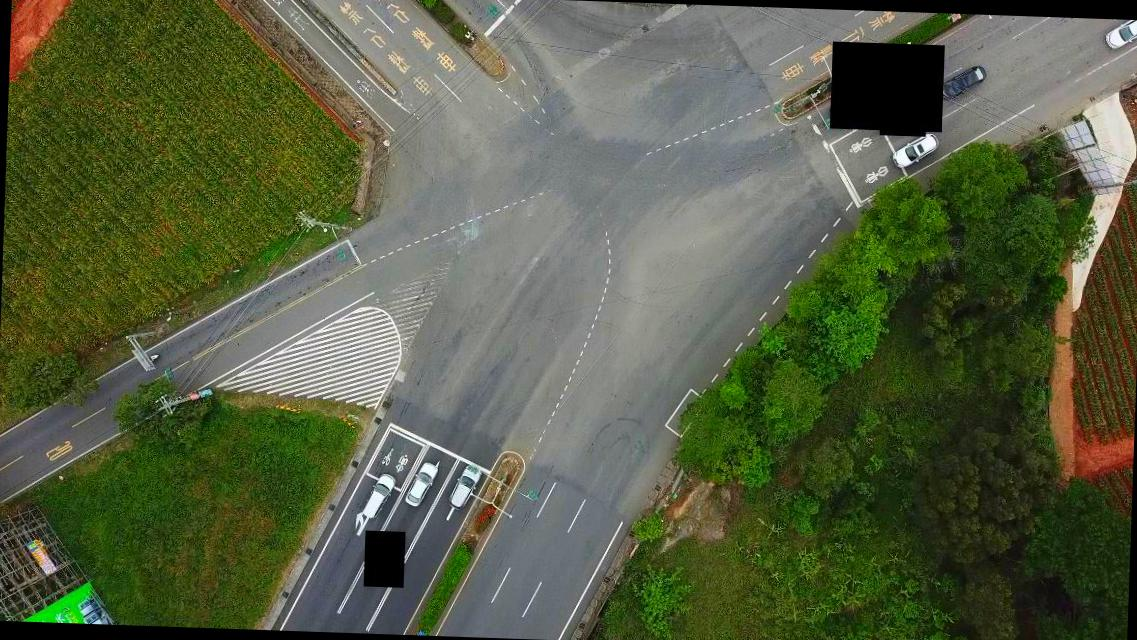vehicle: (890, 130, 938, 173), (402, 456, 440, 509), (939, 62, 986, 102), (360, 473, 391, 520), (448, 465, 478, 512), (1103, 18, 1136, 53)
